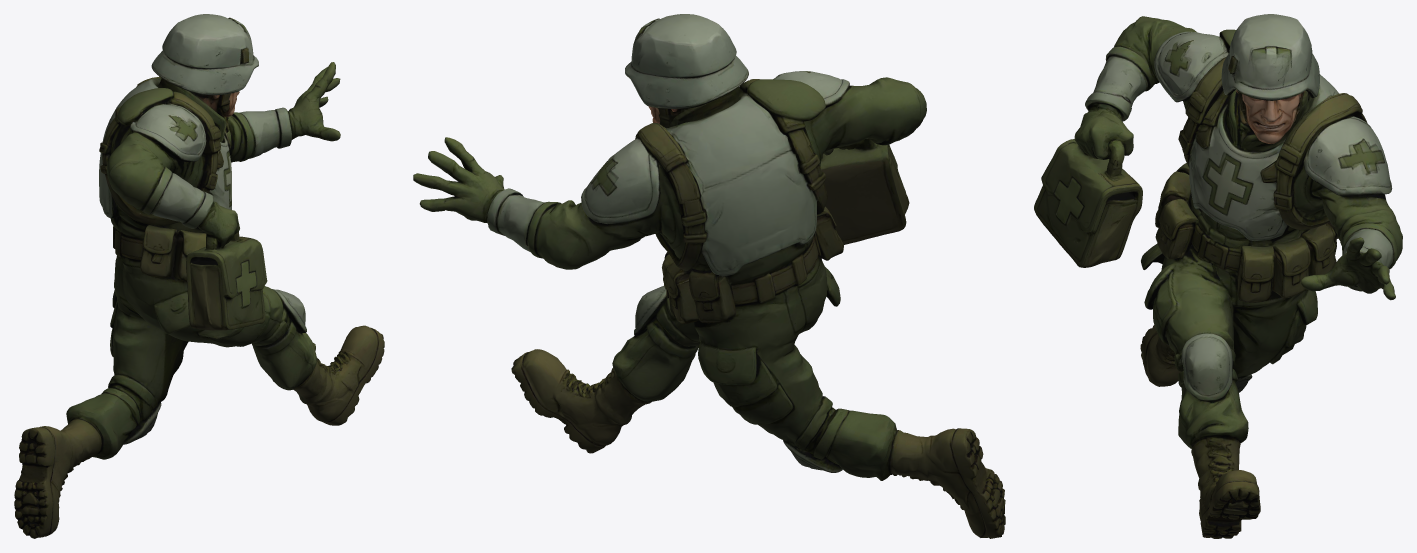
File: chaplian3dv2.glb
3 renders of one model, left to right at view 1: azimuth 30°, elevation 25°; view 2: azimuth 150°, elevation 25°; view 3: azimuth 270°, elevation 25°, orthographic. The views are drawn at different scales.
Visible parts, largest first — view 1: tripo_node_b123120d-8407-4fa9-a228-96add39c939a; view 2: tripo_node_b123120d-8407-4fa9-a228-96add39c939a; view 3: tripo_node_b123120d-8407-4fa9-a228-96add39c939a.
Boxes of the visible parts, x1,y1,x2,y2 form: tripo_node_b123120d-8407-4fa9-a228-96add39c939a: [14, 14, 384, 538]; tripo_node_b123120d-8407-4fa9-a228-96add39c939a: [413, 14, 1005, 538]; tripo_node_b123120d-8407-4fa9-a228-96add39c939a: [1034, 14, 1402, 538].
Bounding box in the file's own units: 1 × 0.9883 × 0.6852.
1 material, 1 textured.
